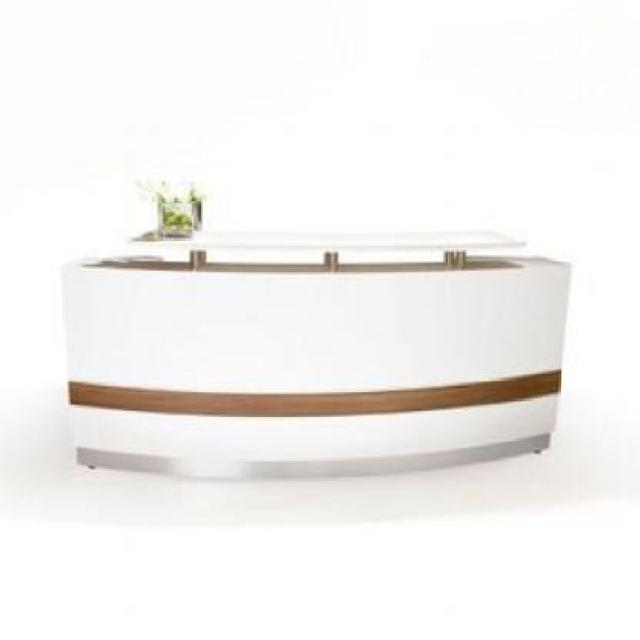frontdesk: (52, 211, 590, 492)
